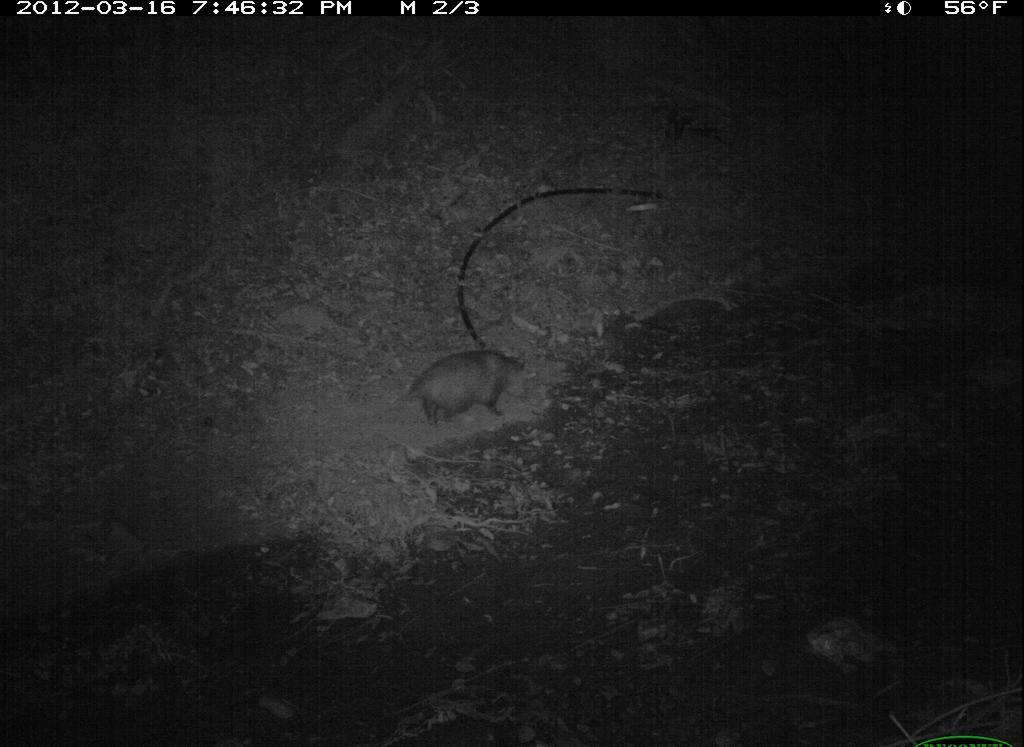opossum: (374, 342, 553, 425)
